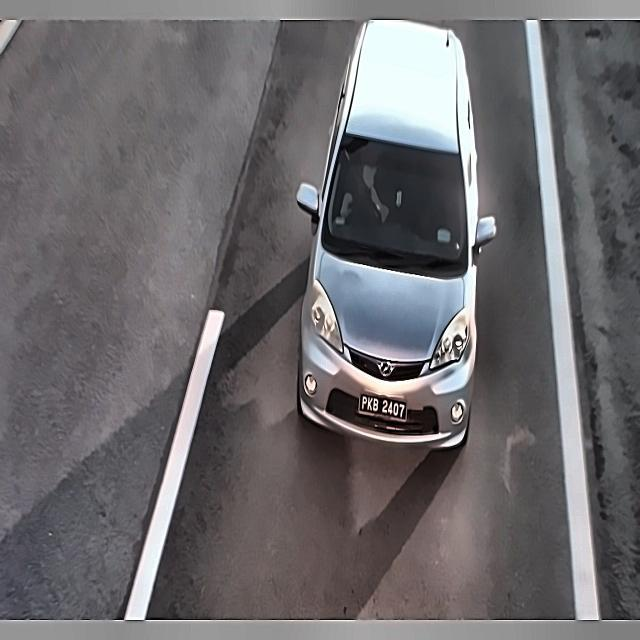car: (355, 382, 413, 425)
